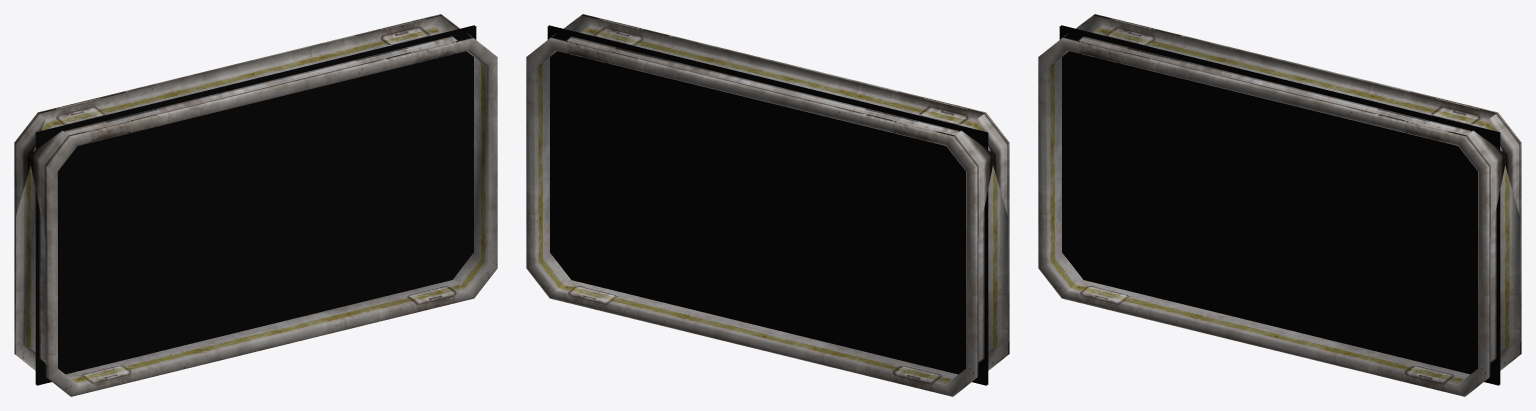
Rendered from theta_ground_window_frame_broken_large.dae.
The picture shows the model from 3 angles, left to right: view 1: azimuth 30°, elevation 25°; view 2: azimuth 150°, elevation 25°; view 3: azimuth 330°, elevation 25°; orthographic projection.
Parts seen in each view (by area): view 1: glass, theta_ground_window_frame; view 2: glass, theta_ground_window_frame; view 3: glass, theta_ground_window_frame.
Boxes of the visible parts, x1,y1,x2,y2 form: glass: (35,25,476,385); theta_ground_window_frame: (14,14,497,396); glass: (547,25,988,385); theta_ground_window_frame: (526,14,1009,396); glass: (1059,25,1500,385); theta_ground_window_frame: (1038,14,1521,396).
Size of the model in its own units: 4.27 by 2.36 by 0.576.
